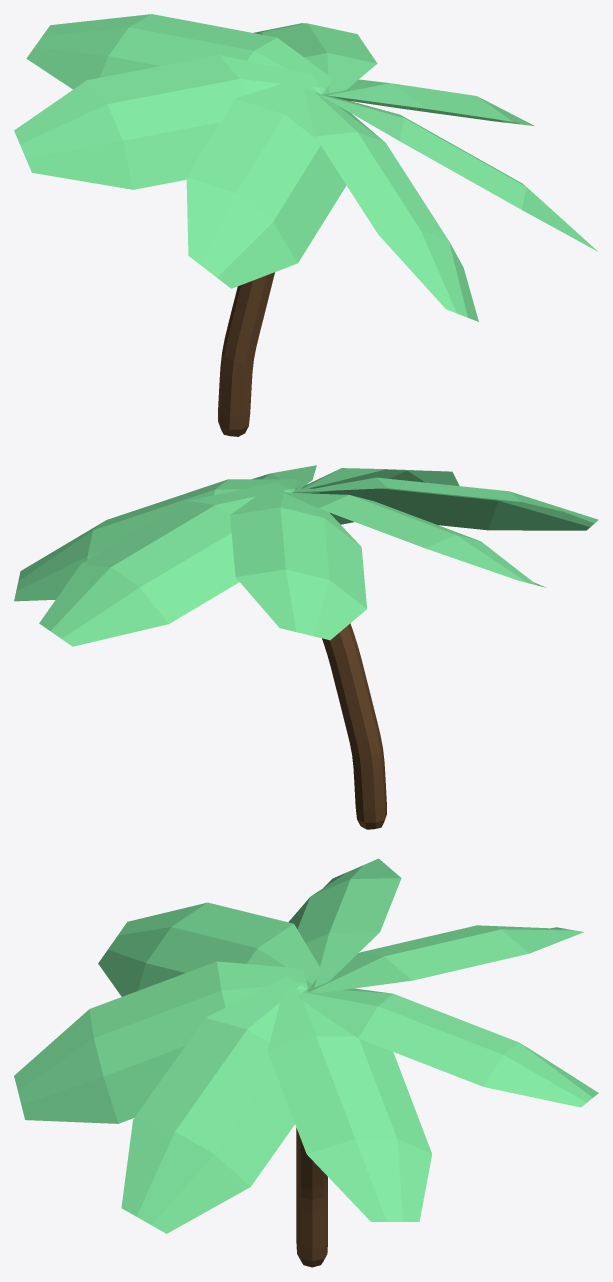
Rendered from tree.glb.
The picture shows the model from 3 angles, top to bottom: view 1: azimuth 30°, elevation 25°; view 2: azimuth 150°, elevation 25°; view 3: azimuth 270°, elevation 25°; orthographic projection. The views are drawn at different scales.
Parts seen in each view (by area): view 1: Plane.005, Plane.006, Plane.004, Plane.007, Plane.003, Cube, Plane.001, Plane.002; view 2: Plane.001, Plane.007, Plane.005, Cube, Plane.002, Plane.006, Plane.004, Plane.003; view 3: Plane.003, Plane.002, Plane.004, Plane.001, Plane.005, Plane.007, Plane.006, Cube.
Part boxes in pixels (bbox=[...]): Plane.005: bbox=[186, 78, 346, 288]; Plane.006: bbox=[14, 55, 320, 189]; Plane.004: bbox=[304, 88, 478, 321]; Plane.007: bbox=[26, 14, 332, 93]; Plane.003: bbox=[320, 94, 597, 251]; Cube: bbox=[218, 272, 274, 436]; Plane.001: bbox=[253, 23, 377, 94]; Plane.002: bbox=[321, 79, 534, 125]; Plane.001: bbox=[39, 482, 291, 646]; Plane.007: bbox=[230, 487, 366, 640]; Plane.005: bbox=[293, 477, 598, 530]; Cube: bbox=[322, 623, 386, 829]; Plane.002: bbox=[14, 479, 296, 601]; Plane.006: bbox=[279, 490, 545, 587]; Plane.004: bbox=[301, 468, 459, 524]; Plane.003: bbox=[252, 465, 316, 490]; Plane.003: bbox=[121, 977, 306, 1233]; Plane.002: bbox=[267, 989, 432, 1221]; Plane.004: bbox=[14, 961, 307, 1123]; Plane.001: bbox=[297, 988, 598, 1107]; Plane.005: bbox=[98, 902, 321, 996]; Plane.007: bbox=[307, 925, 583, 992]; Plane.006: bbox=[288, 858, 401, 990]; Cube: bbox=[296, 1128, 327, 1267].
Size of the model in its own units: 8.55 by 5.47 by 8.45.
